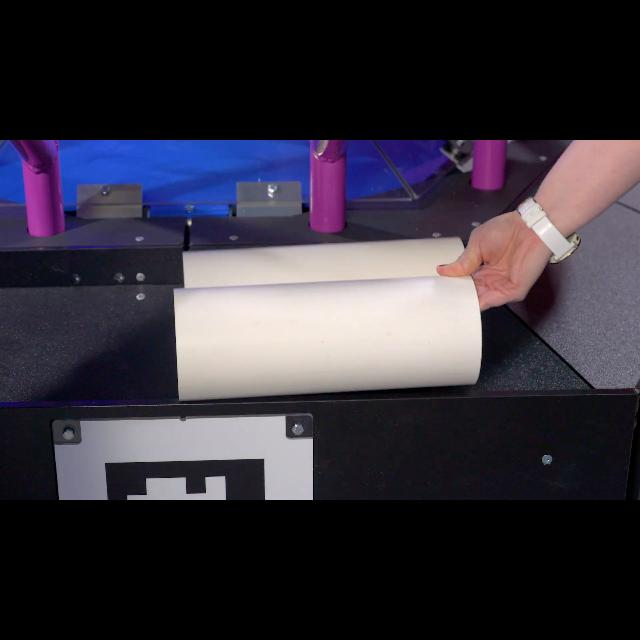CORAL: (172, 274, 483, 402), (180, 236, 466, 288)
